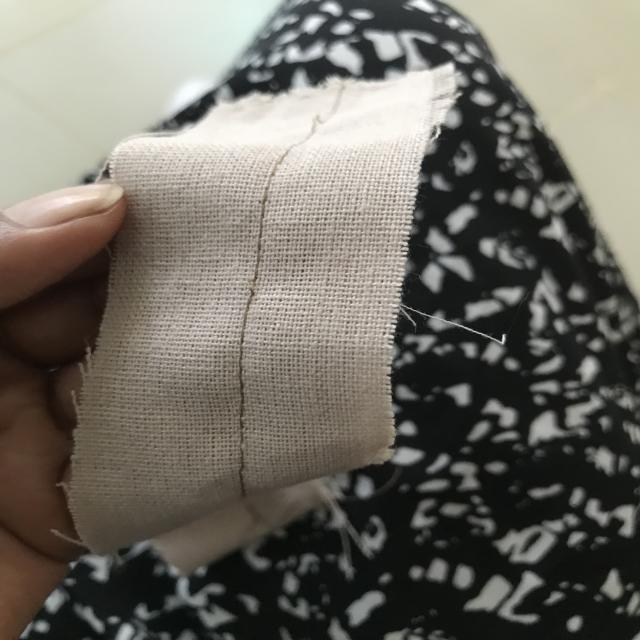broken: (236, 265, 278, 303)
